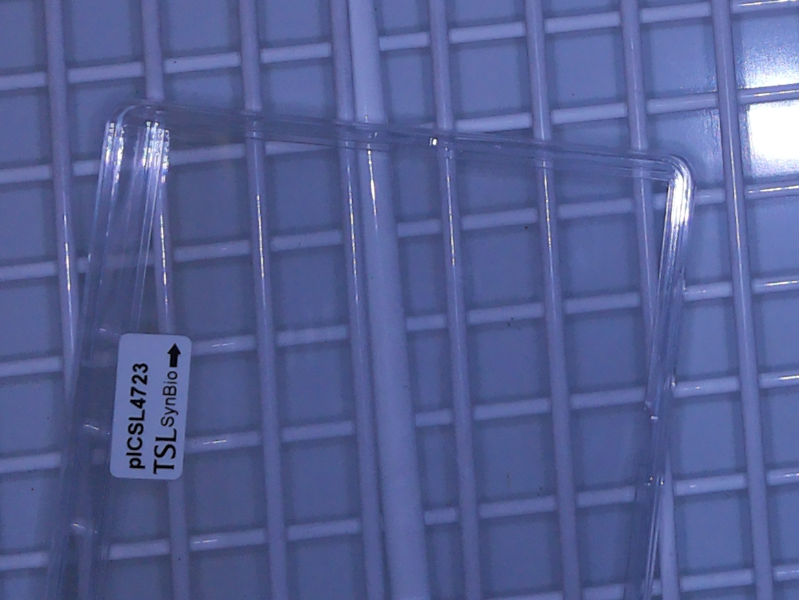plate: (49, 96, 698, 600)
